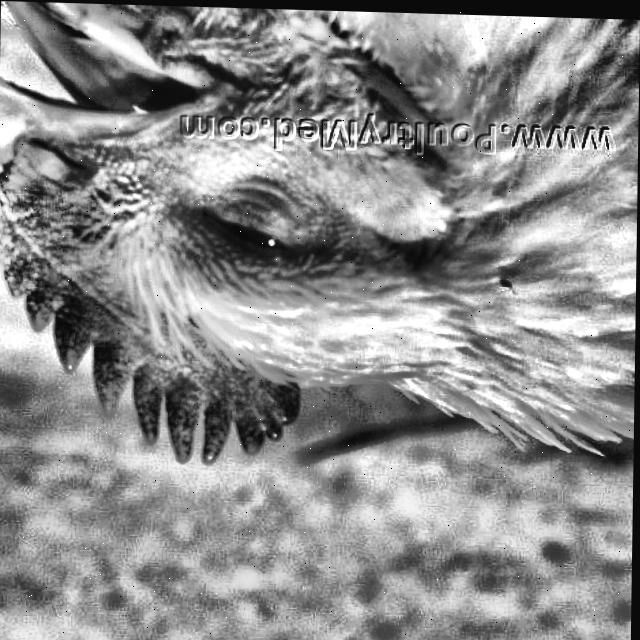Infectios bronchitis: (0, 0, 345, 464)
